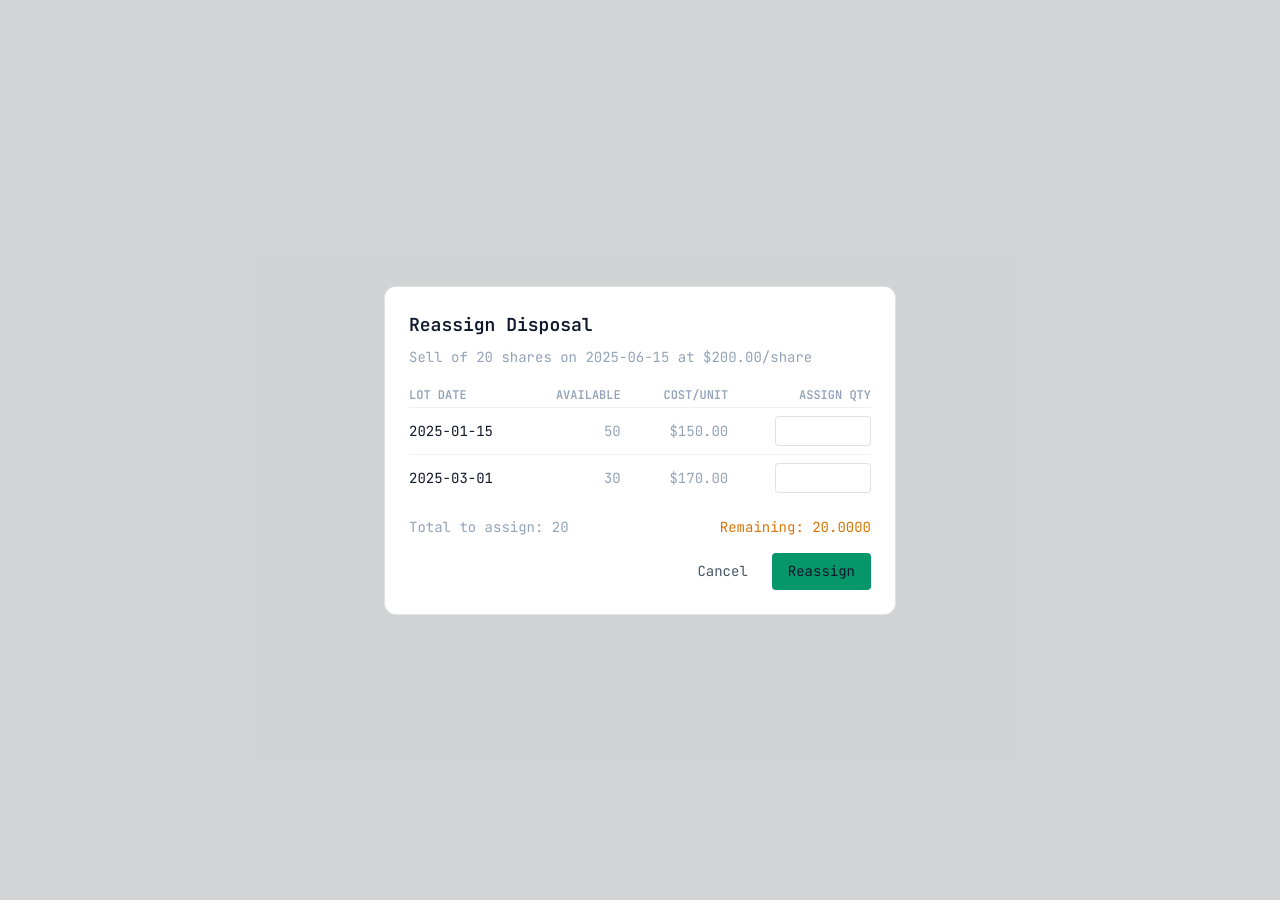
Test: DisposalReassignModal › shows remaining quantity calculation
Expected: the table with test id "reassign-lots-table" is shown, [409, 382, 871, 500]
Expected: the text "Remaining: 20.0000" is shown, [720, 516, 871, 536]
Note: Assign 10 to lot-1
Type "10" into the number field with test id "reassign-qty-lot-1". click: (823, 430)
box: [775, 416, 871, 446]
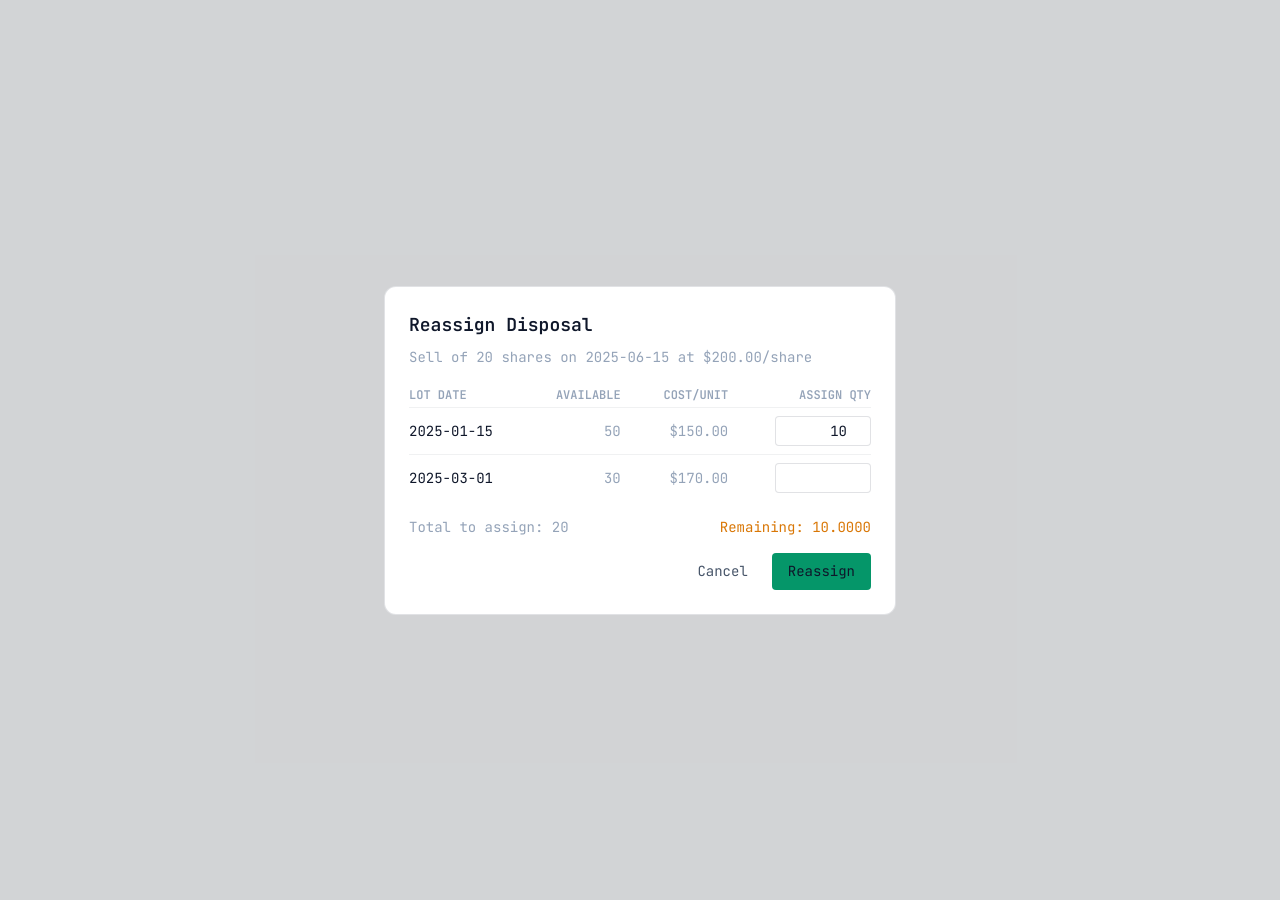
Now the text "Remaining: 10.0000" is shown, box [720, 516, 871, 536]
